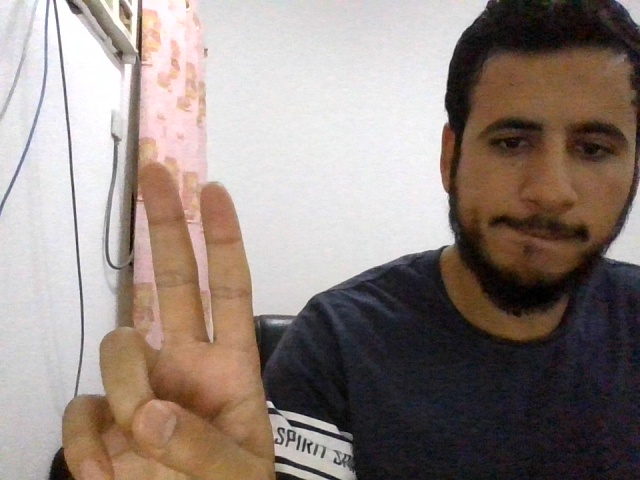Two: (61, 163, 275, 480)
